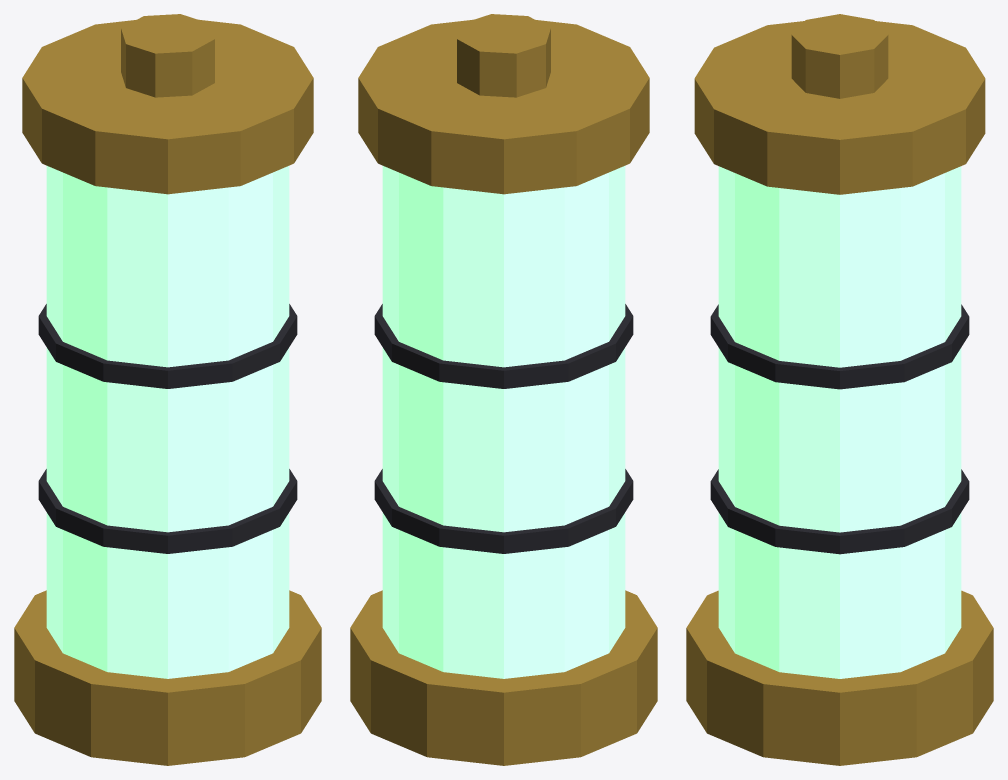
Rendered from lab-jar.glb.
3 renders of one model, left to right at view 1: azimuth 30°, elevation 25°; view 2: azimuth 150°, elevation 25°; view 3: azimuth 270°, elevation 25°, orthographic.
Visible parts, largest first — view 1: lab-jar; view 2: lab-jar; view 3: lab-jar.
Boxes of the visible parts, x1,y1,x2,y2 form: lab-jar: (14,14,321,765); lab-jar: (350,14,657,765); lab-jar: (686,14,993,765).
Size of the model in its own units: 0.76 by 1.82 by 0.76.
